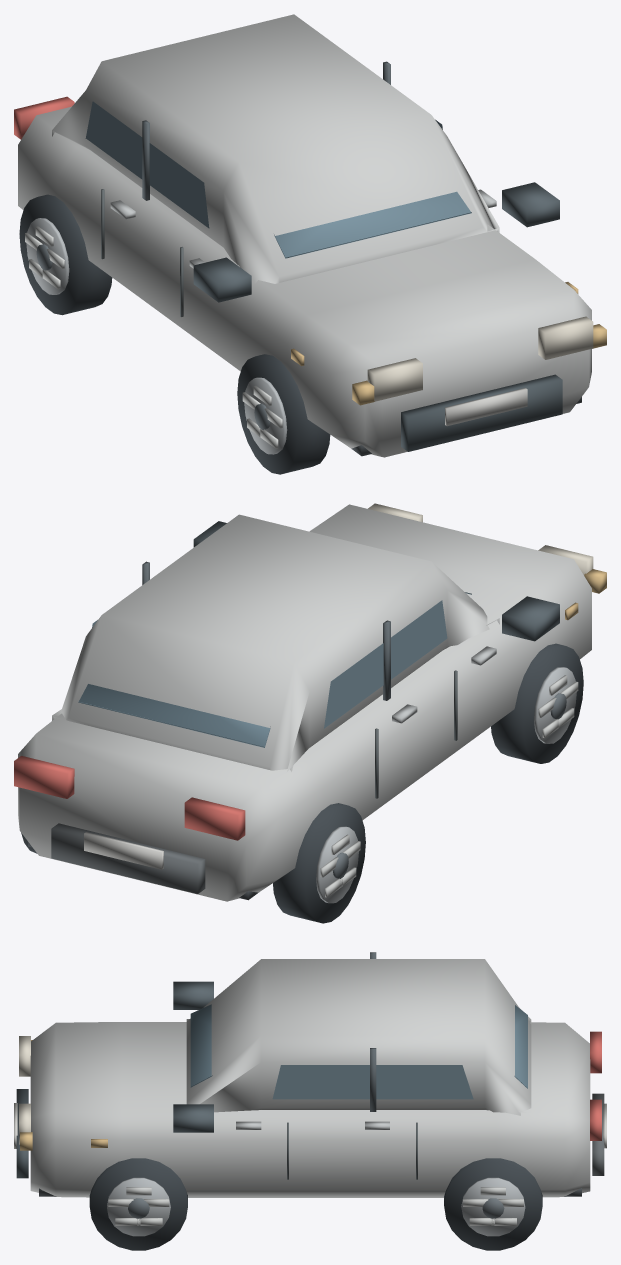
File: hatchback.glb
The picture shows the model from 3 angles, top to bottom: view 1: azimuth 30°, elevation 25°; view 2: azimuth 150°, elevation 25°; view 3: azimuth 270°, elevation 25°; orthographic projection. The views are drawn at different scales.
Visible parts, largest first — view 1: paint, trim, glass, wheel_1_L, wheel_0_L, headlights, metal, indicators, taillights; view 2: paint, glass, trim, wheel_0_L, wheel_1_L, taillights, metal, headlights, indicators; view 3: paint, glass, wheel_0_R, wheel_1_R, trim, taillights, headlights, metal.
Boxes of the visible parts, x1,y1,x2,y2 form: paint: [18, 14, 591, 457]; trim: [101, 61, 581, 456]; glass: [85, 101, 471, 258]; wheel_1_L: [237, 354, 330, 474]; wheel_0_L: [19, 194, 112, 315]; headlights: [367, 316, 593, 401]; metal: [110, 189, 527, 426]; indicators: [291, 282, 606, 405]; taillights: [14, 96, 74, 139]; paint: [18, 504, 591, 901]; glass: [78, 592, 471, 747]; trim: [28, 521, 559, 900]; wheel_0_L: [273, 803, 365, 923]; wheel_1_L: [491, 643, 583, 763]; taillights: [14, 756, 245, 840]; metal: [84, 646, 496, 869]; headlights: [368, 503, 593, 575]; indicators: [565, 569, 606, 620]; paint: [30, 959, 590, 1197]; glass: [190, 1004, 527, 1099]; wheel_0_R: [444, 1158, 542, 1250]; wheel_1_R: [89, 1158, 187, 1250]; trim: [16, 952, 604, 1196]; taillights: [590, 1031, 601, 1140]; headlights: [19, 1036, 30, 1144]; metal: [14, 1103, 606, 1148].
Size of the model in its own units: 2.28 by 1.54 by 4.22.
